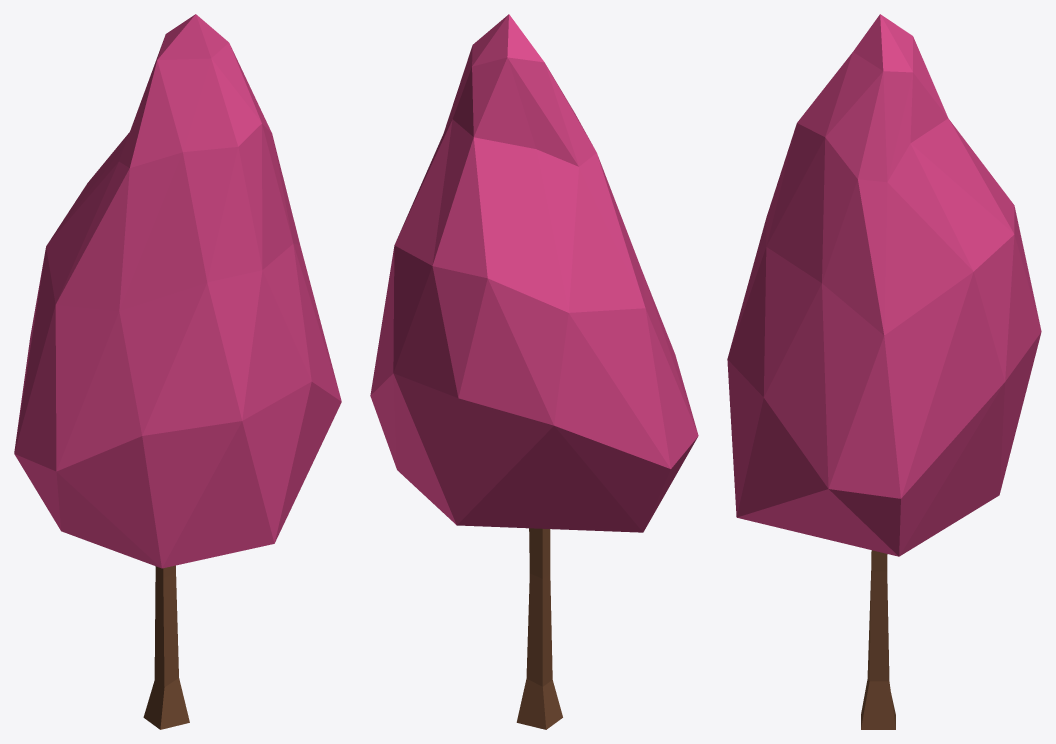
The model's file is Tree_37_Pink.fbx.
The picture shows the model from 3 angles, left to right: view 1: azimuth 30°, elevation 25°; view 2: azimuth 150°, elevation 25°; view 3: azimuth 270°, elevation 25°; orthographic projection. The views are drawn at different scales.
Visible parts, largest first — view 1: Tree_37_Pink_Part_1, Tree_37_Pink_Part_2; view 2: Tree_37_Pink_Part_1, Tree_37_Pink_Part_2; view 3: Tree_37_Pink_Part_1, Tree_37_Pink_Part_2.
Boxes of the visible parts, x1,y1,x2,y2 form: Tree_37_Pink_Part_1: (14,14,341,568); Tree_37_Pink_Part_2: (143,565,189,729); Tree_37_Pink_Part_1: (370,14,698,532); Tree_37_Pink_Part_2: (516,528,562,729); Tree_37_Pink_Part_1: (727,14,1041,556); Tree_37_Pink_Part_2: (861,550,895,729).
Bounding box in the file's own units: 358 × 797 × 314.
